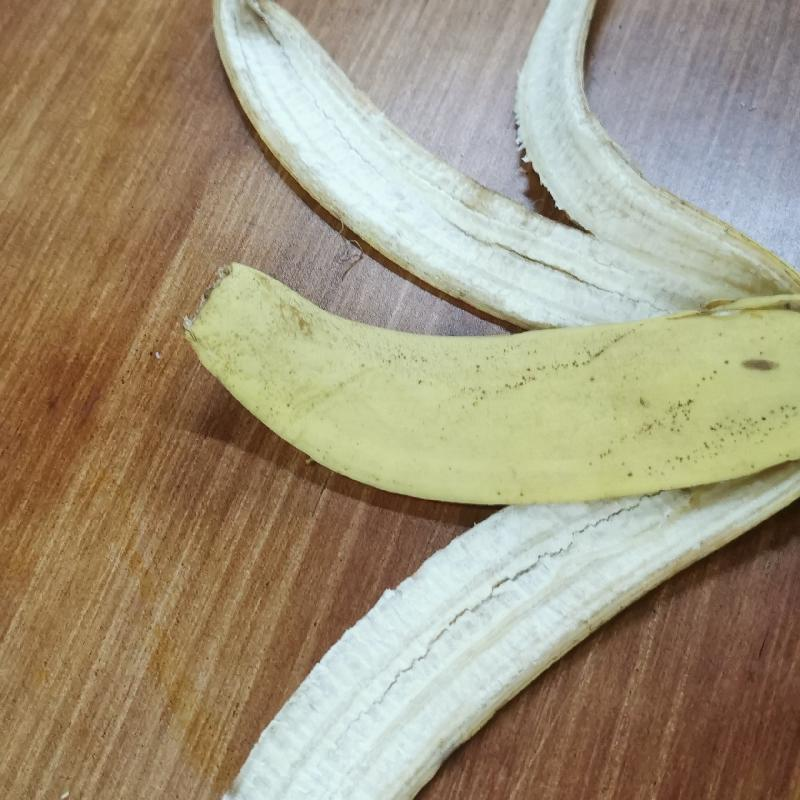bananas: (140, 0, 800, 799)
